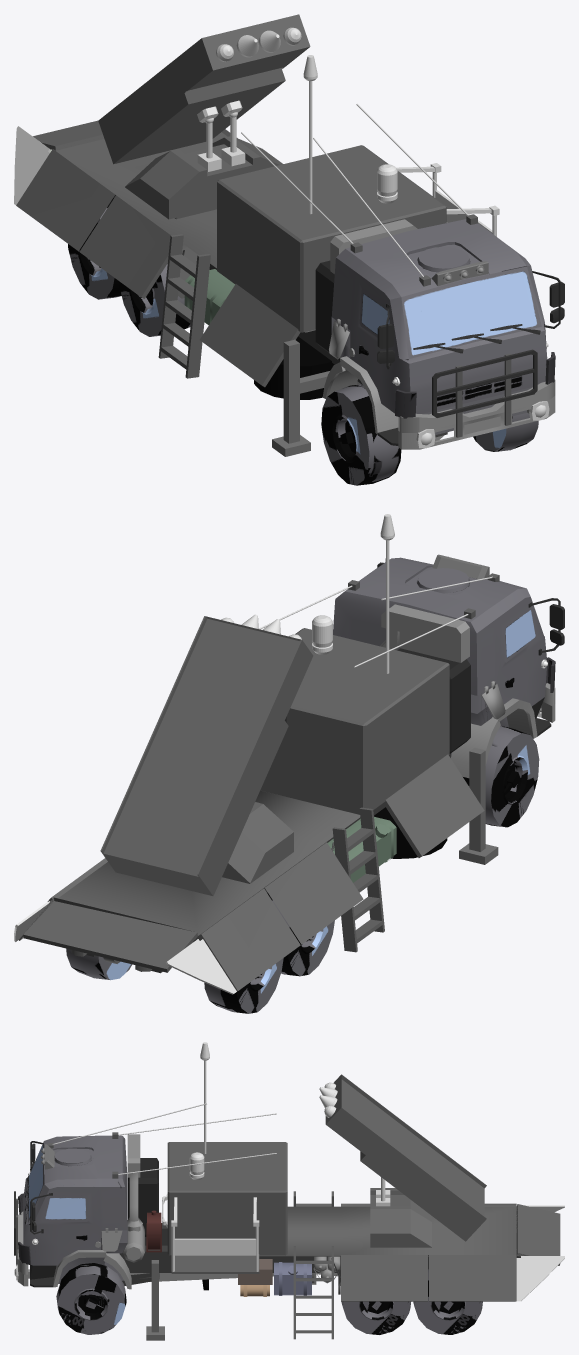
The model's file is antenna-not-deployed.fbx.
3 views of the same model, one above another, from view 1: azimuth 30°, elevation 25°; view 2: azimuth 150°, elevation 25°; view 3: azimuth 270°, elevation 25° (orthographic). The views are drawn at different scales.
Parts seen in each view (by area): view 1: Куб.131, Куб.136, Cube, Cube.002, Цилиндр.051, Cube.001, Cube.008, Куб.096, Cube.016, Цилиндр.053, Cube.007, Цилиндр.073 (+17 smaller); view 2: Куб.136, Cube.002, Cube, Куб.131, Цилиндр.051, Cube.008, Цилиндр.059, Cube.001, Цилиндр.001, Cube.015, Cube.016, Cube.011 (+9 smaller); view 3: Куб.136, Куб.131, Cube, Cube.002, Цилиндр.051, Cube.001, Цилиндр.001, Цилиндр.053, Цилиндр.059, Куб.118, Cube.018, Cube.010 (+17 smaller).
Part boxes in pixels (bbox=[...]): Куб.131: bbox=[331, 219, 555, 434]; Куб.136: bbox=[16, 120, 315, 387]; Cube: bbox=[217, 145, 446, 332]; Cube.002: bbox=[98, 14, 310, 164]; Цилиндр.051: bbox=[321, 384, 538, 485]; Cube.001: bbox=[125, 136, 283, 219]; Cube.008: bbox=[158, 234, 210, 378]; Куб.096: bbox=[398, 379, 555, 449]; Cube.016: bbox=[272, 339, 329, 456]; Цилиндр.053: bbox=[119, 264, 190, 336]; Cube.007: bbox=[432, 349, 537, 417]; Цилиндр.073: bbox=[254, 336, 334, 399]; Куб.136: bbox=[19, 754, 484, 991]; Cube.002: bbox=[100, 616, 313, 895]; Cube: bbox=[260, 628, 449, 814]; Куб.131: bbox=[333, 557, 555, 754]; Цилиндр.051: bbox=[463, 726, 539, 827]; Cube.008: bbox=[332, 807, 384, 952]; Цилиндр.059: bbox=[380, 604, 469, 662]; Cube.001: bbox=[222, 802, 293, 883]; Цилиндр.001: bbox=[66, 948, 283, 1013]; Cube.015: bbox=[397, 648, 470, 753]; Cube.016: bbox=[459, 747, 498, 864]; Cube.011: bbox=[165, 939, 236, 994]; Куб.136: bbox=[171, 1203, 560, 1301]; Куб.131: bbox=[18, 1135, 127, 1283]; Cube: bbox=[167, 1142, 287, 1255]; Cube.002: bbox=[325, 1074, 486, 1241]; Цилиндр.051: bbox=[56, 1263, 126, 1334]; Cube.001: bbox=[370, 1188, 431, 1247]; Цилиндр.001: bbox=[413, 1269, 482, 1334]; Цилиндр.053: bbox=[341, 1301, 410, 1334]; Цилиндр.059: bbox=[123, 1134, 144, 1262]; Куб.118: bbox=[120, 1223, 520, 1285]; Cube.018: bbox=[174, 1238, 256, 1255]; Cube.010: bbox=[516, 1256, 564, 1301].
Bounding box in the file's own units: 709 × 1019 × 2029.
66 materials, 2 textured.
